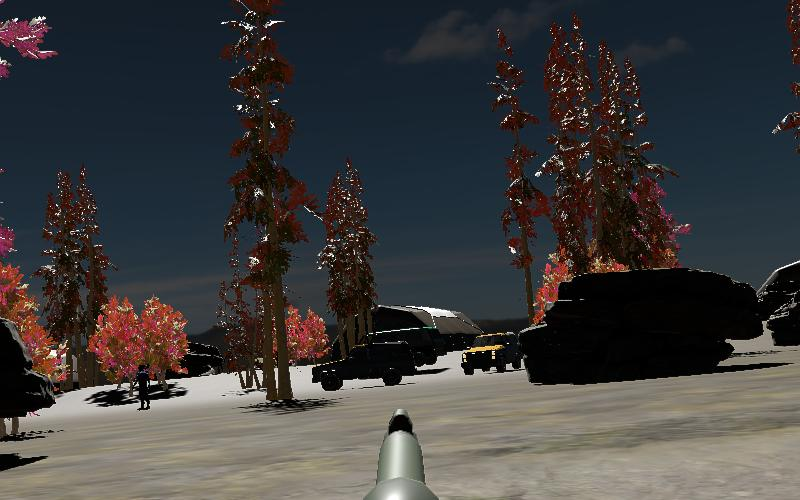car: (310, 336, 417, 392), (458, 330, 522, 376)
